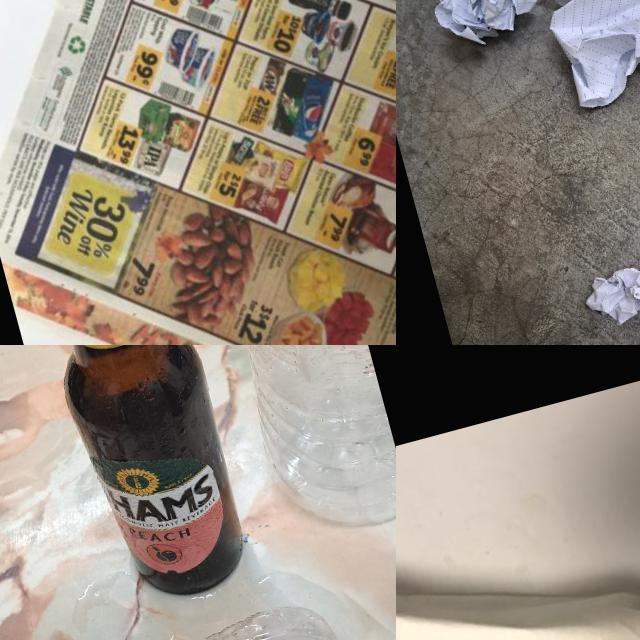garrafa de vidro: (7, 345, 260, 612)
garrafa plástica: (164, 345, 396, 545), (182, 593, 353, 640)
papel: (0, 0, 396, 345), (396, 466, 640, 640), (534, 0, 640, 121), (422, 0, 544, 54), (581, 256, 640, 345)
